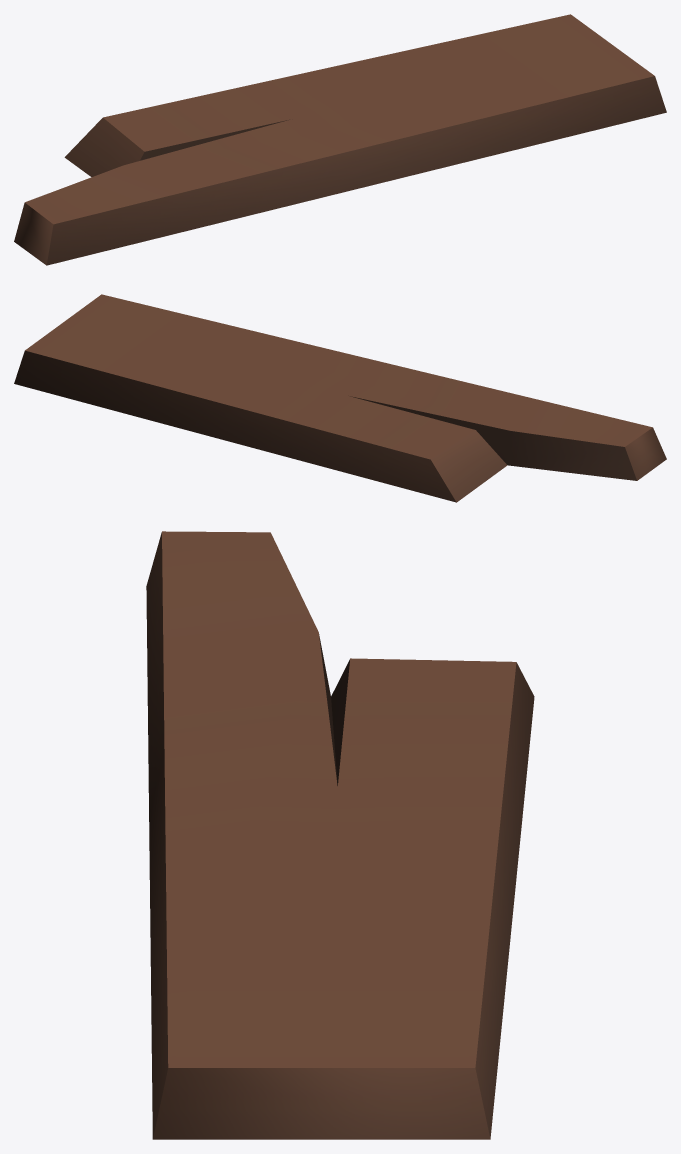
File: Wooden_Plank_1E.fbx
3 renders of one model, top to bottom at view 1: azimuth 30°, elevation 25°; view 2: azimuth 150°, elevation 25°; view 3: azimuth 270°, elevation 25°, orthographic. The views are drawn at different scales.
Parts seen in each view (by area): view 1: Wooden_Plank_1E; view 2: Wooden_Plank_1E; view 3: Wooden_Plank_1E.
Part boxes in pixels (x1,y1,x2,y2): Wooden_Plank_1E: [14, 14, 666, 265]; Wooden_Plank_1E: [14, 294, 666, 502]; Wooden_Plank_1E: [146, 531, 534, 1139].
Bounding box in the file's own units: 1.84 × 0.1 × 0.5449.
